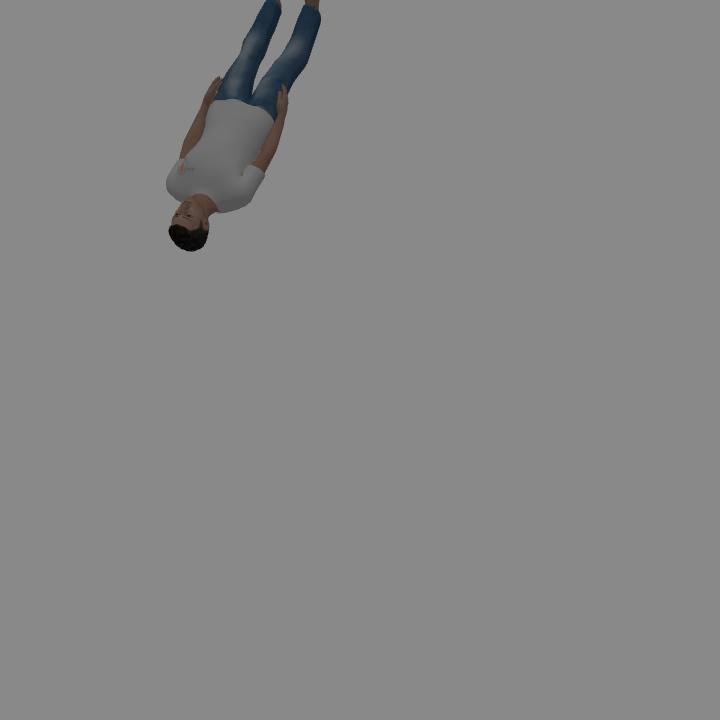victim: (168, 1, 315, 249)
